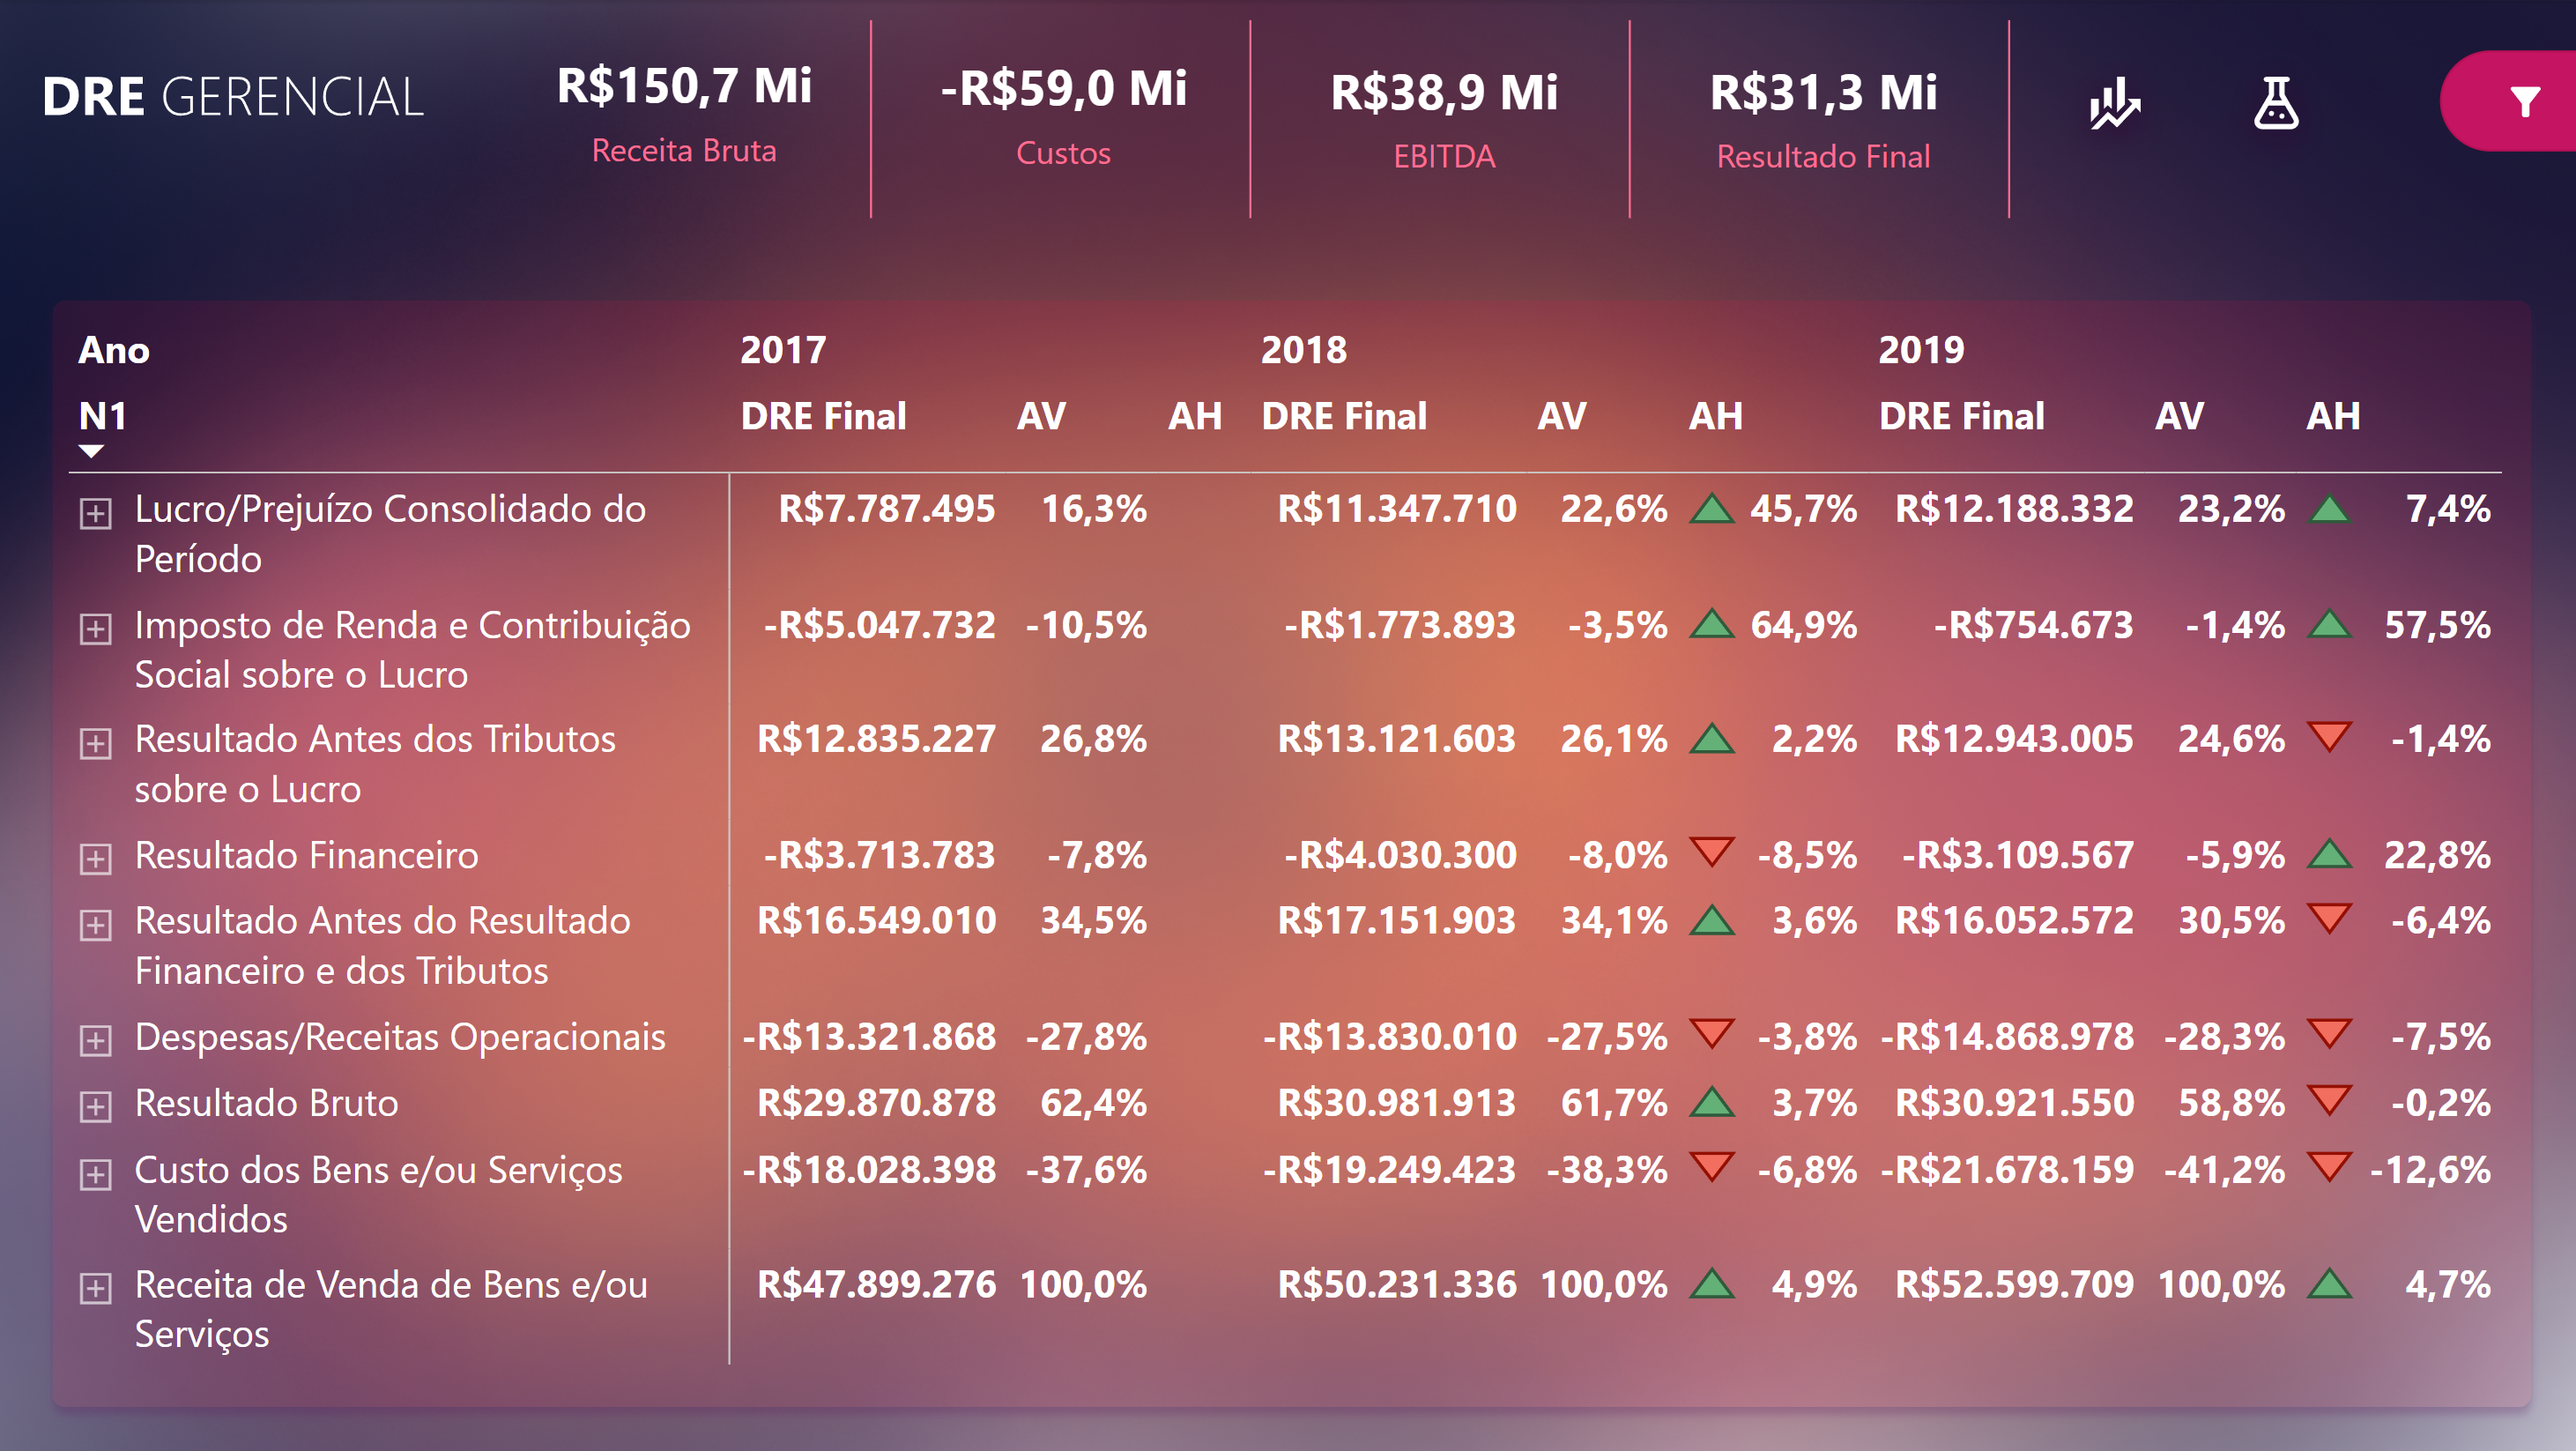

What the dashboard file says about the page in this screenshot:
{"tool":"powerbi","page":{"name":"DRE","canvas":[1280,720],"ordinal":0},"visuals":[{"type":"pivotTable","fields":{"Rows":["dPlanoContas.N1","dPlanoContas.N2"],"Values":["Medidas.DRE Final","Medidas.AV","Medidas.AH"],"Columns":["dCalendario.Ano"]},"box":[29.5,150.6,1227.6,545.1],"z":0},{"type":"card","fields":{"Values":["Medidas.Receita Bruta"]},"box":[245.5,0,188.2,106.4],"z":1000},{"type":"card","fields":{"Values":["Medidas.Custos"]},"box":[433.8,1.6,188.2,106.4],"z":2000},{"type":"card","fields":{"Values":["Medidas.EBITDA"]},"box":[622,3.3,188.2,106.4],"z":3000},{"type":"card","fields":{"Values":["Medidas.Resultado Final"]},"box":[810.2,3.3,188.2,106.4],"z":4000},{"type":"actionButton","box":[1102.8,19.7,52.5,64],"z":5000}]}

Visuals, with their boxes in screenshot pixels (x1, y1, x2, y2), scaled from the page's 1280x720 canvas onto the 2576x1451 screenshot:
pivotTable - dPlanoContas.N1 x dPlanoContas.N2: (59, 303, 2530, 1402)
card - Medidas.Receita Bruta: (494, 0, 872, 214)
card - Medidas.Custos: (873, 4, 1251, 218)
card - Medidas.EBITDA: (1251, 7, 1630, 221)
card - Medidas.Resultado Final: (1630, 7, 2009, 221)
actionButton: (2219, 40, 2325, 168)
